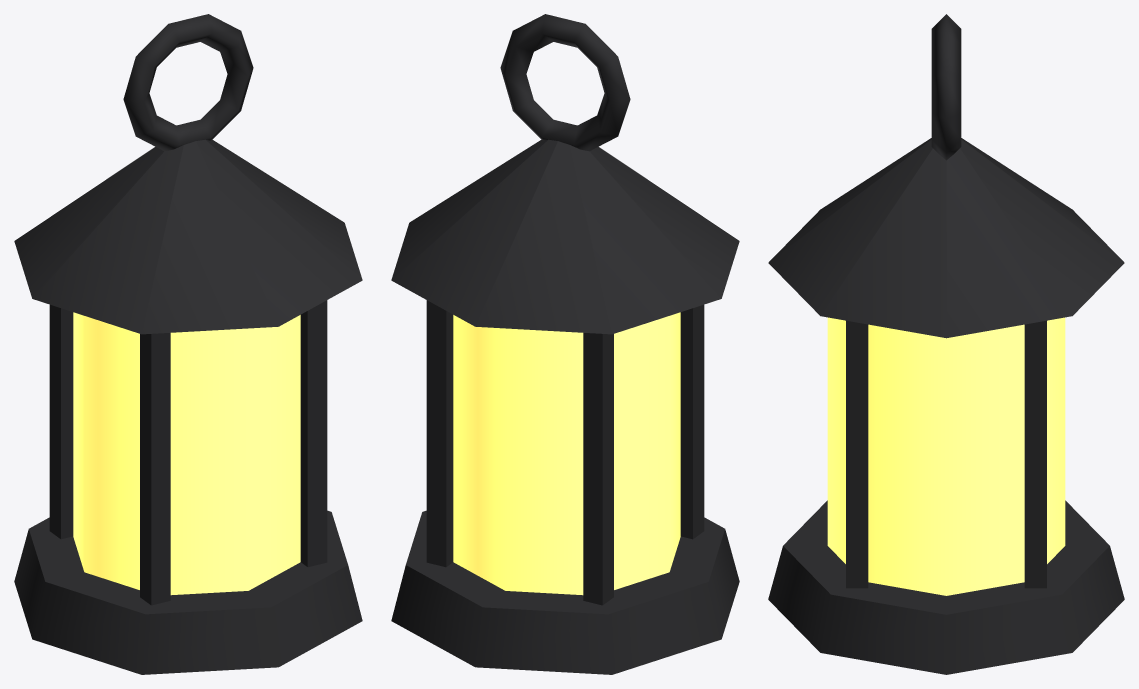
Rendered from lantern01.glb.
The picture shows the model from 3 angles, left to right: view 1: azimuth 30°, elevation 25°; view 2: azimuth 150°, elevation 25°; view 3: azimuth 270°, elevation 25°; orthographic projection.
Parts seen in each view (by area): view 1: body; view 2: body; view 3: body.
Boxes of the visible parts, x1,y1,x2,y2 form: body: [14, 14, 362, 674]; body: [391, 14, 739, 674]; body: [768, 14, 1124, 674].
Bounding box in the file's own units: 0.24 × 0.4276 × 0.24.
